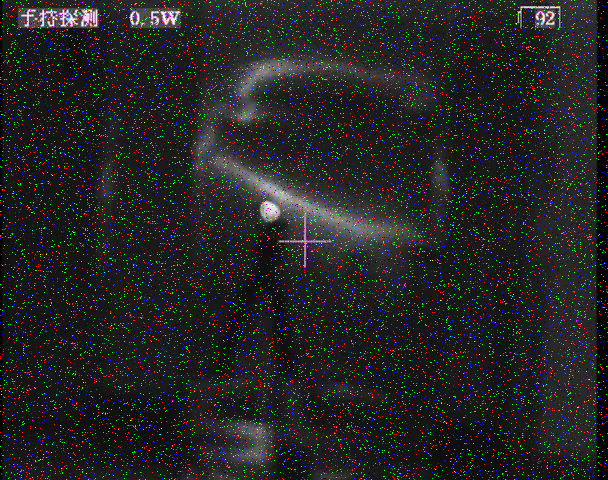my: (258, 198, 282, 223)
